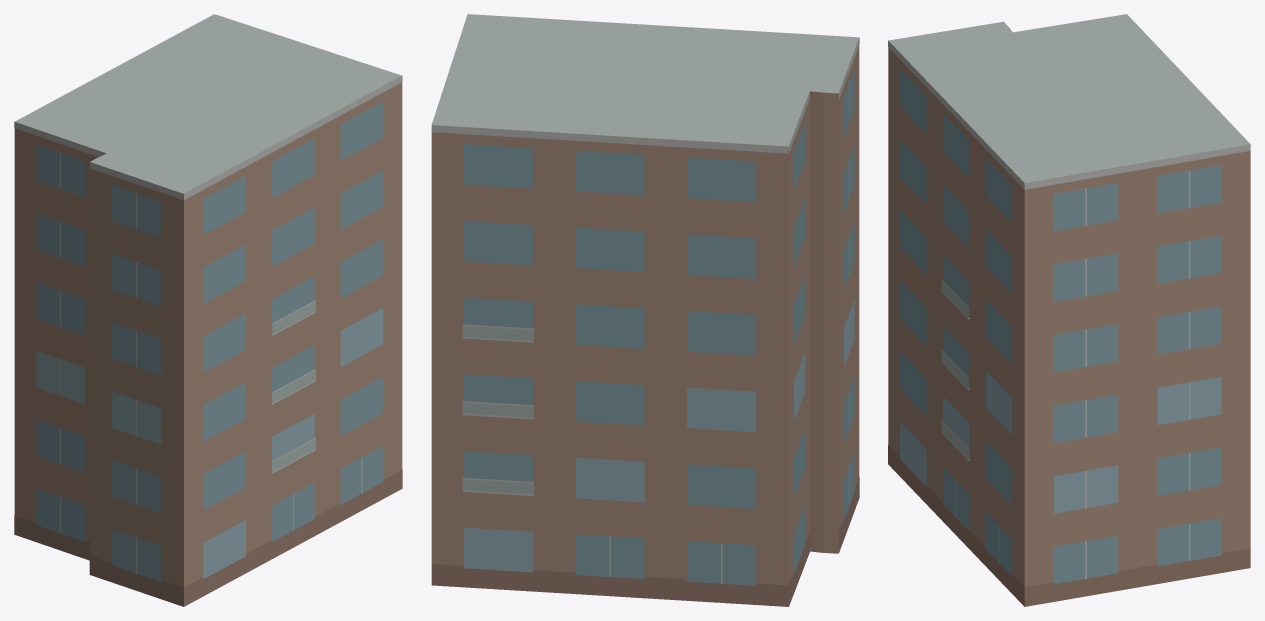
Rendered from survey-upis-32890645.glb.
3 views of the same model, side by side, from view 1: azimuth 30°, elevation 25°; view 2: azimuth 150°, elevation 25°; view 3: azimuth 270°, elevation 25° (orthographic). The views are drawn at different scales.
Parts seen in each view (by area): view 1: survey-upis-32890645.tmp; view 2: survey-upis-32890645.tmp; view 3: survey-upis-32890645.tmp.
Part boxes in pixels (x1=…): survey-upis-32890645.tmp: x1=14, y1=14, x2=402, y2=606; survey-upis-32890645.tmp: x1=431, y1=14, x2=859, y2=606; survey-upis-32890645.tmp: x1=888, y1=14, x2=1250, y2=606.
Bounding box in the file's own units: 13.54 × 15.8 × 12.26.
